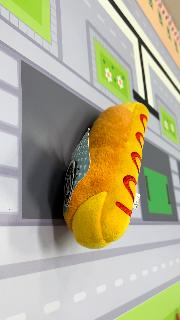hotdog: (62, 100, 150, 250)
